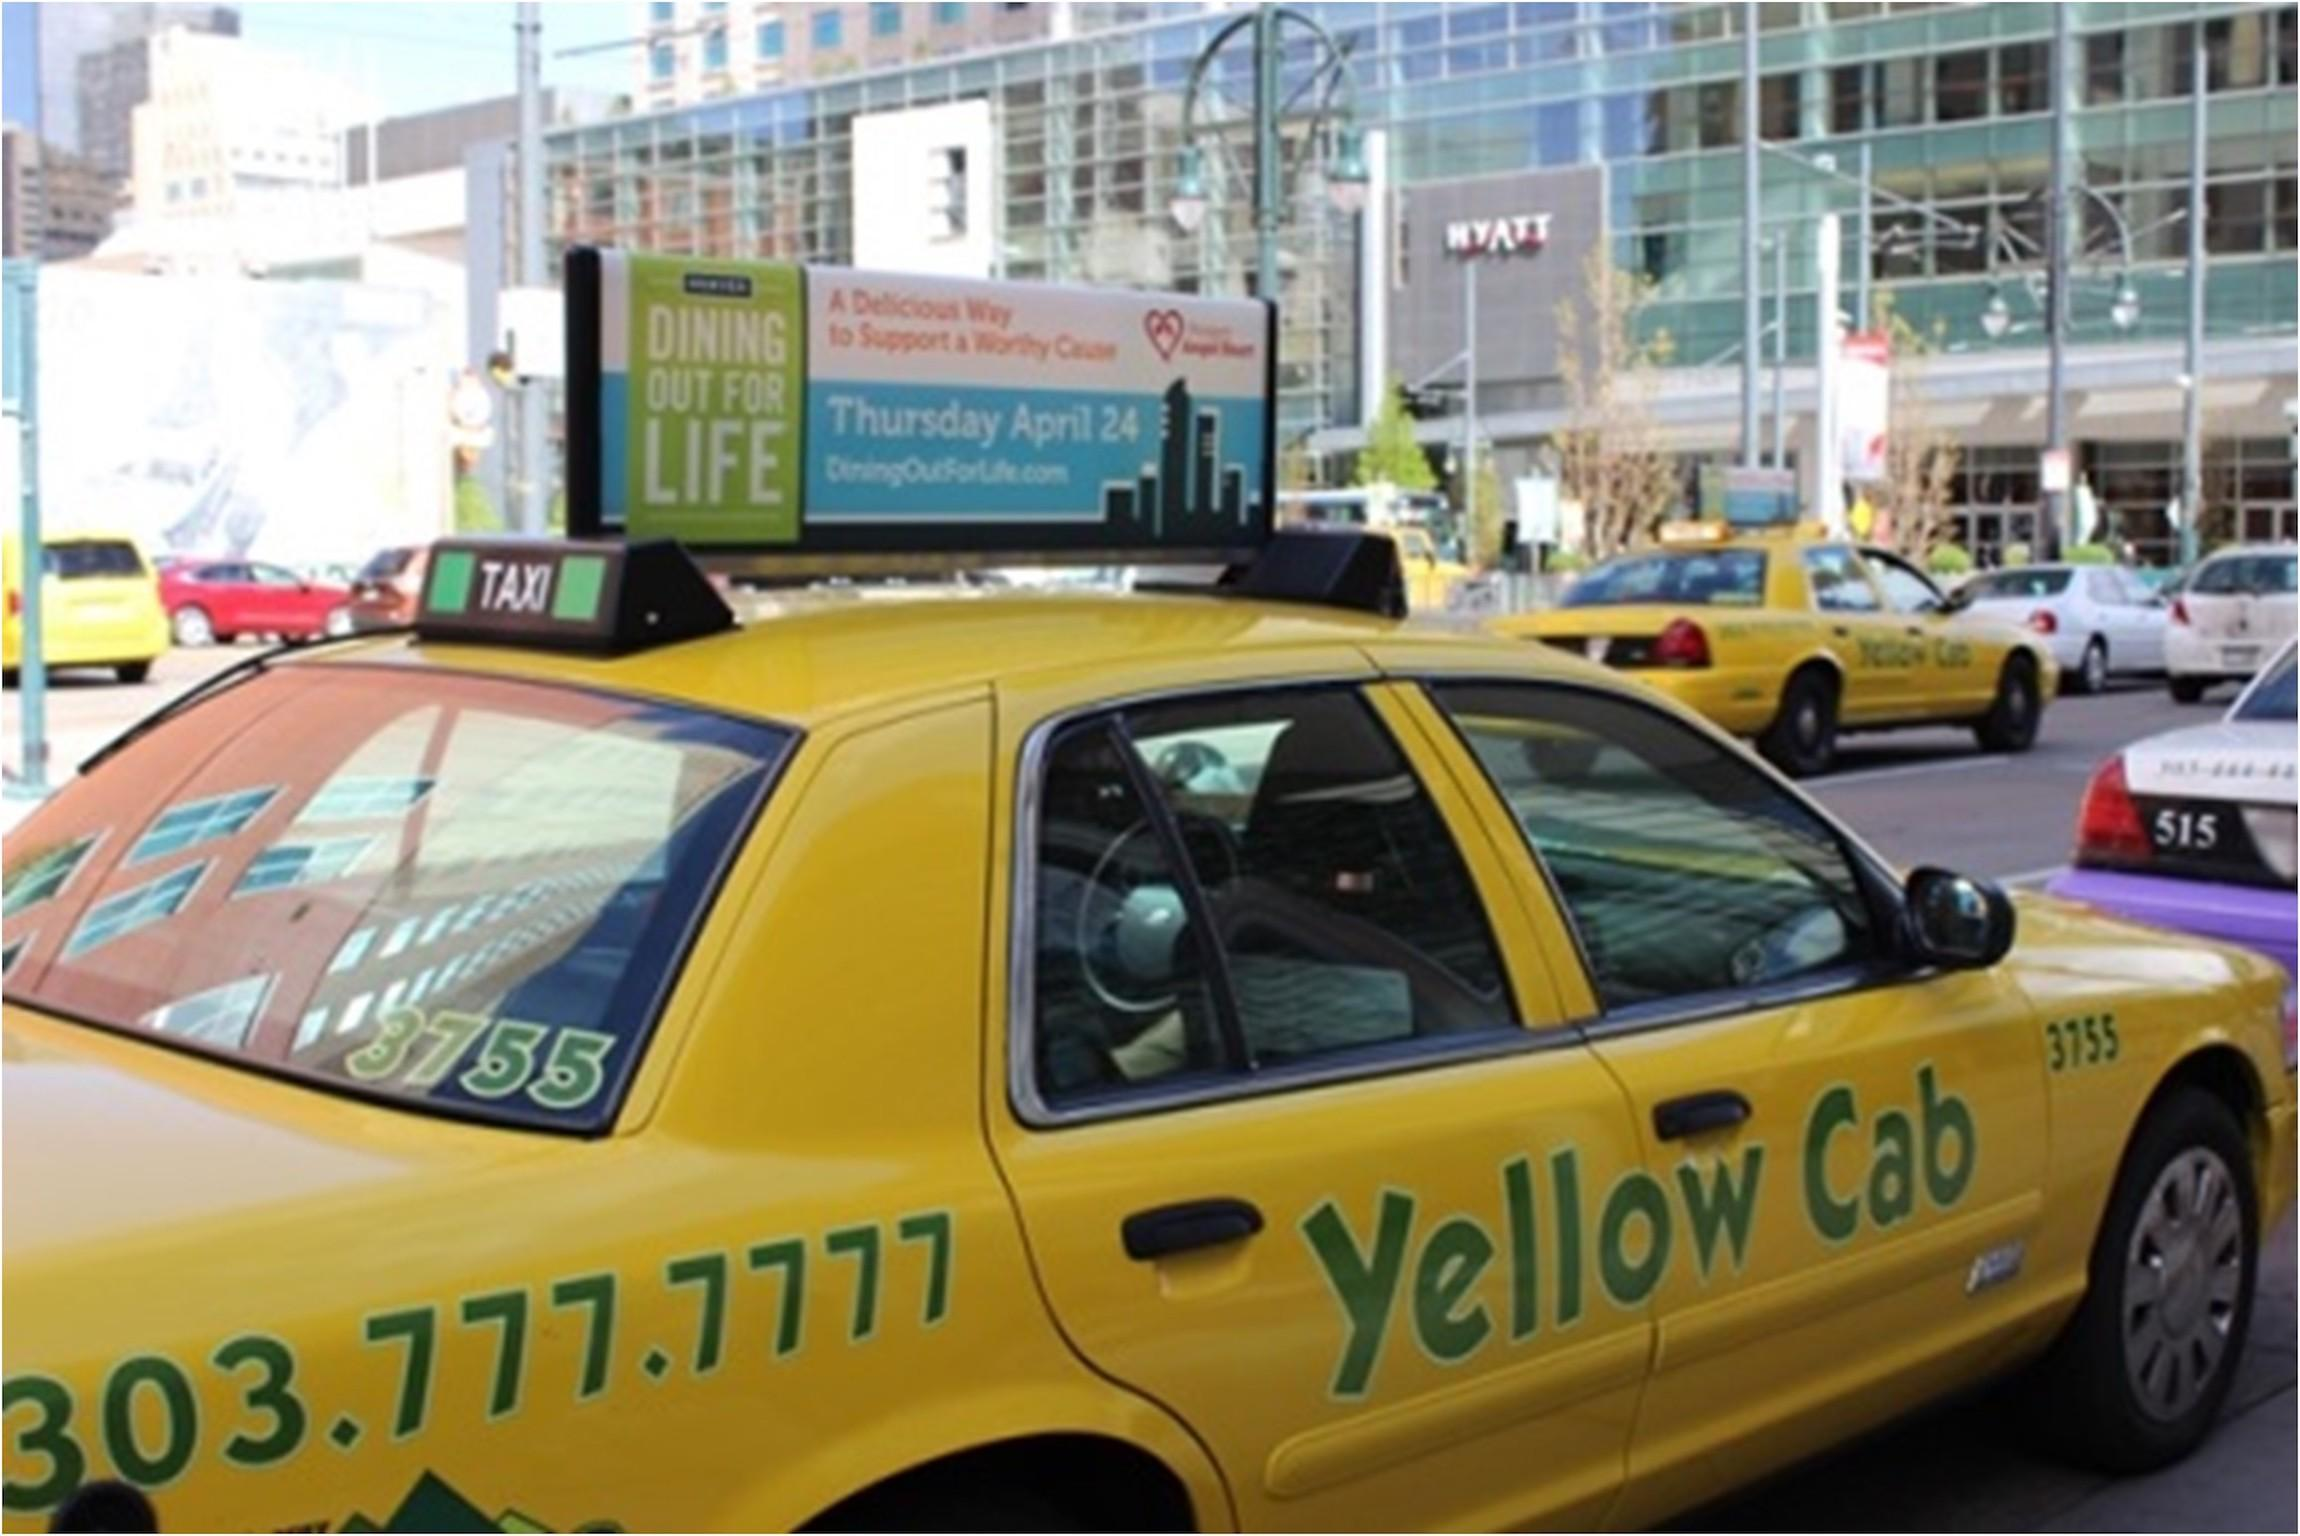taxi: (2, 525, 2300, 1536)
